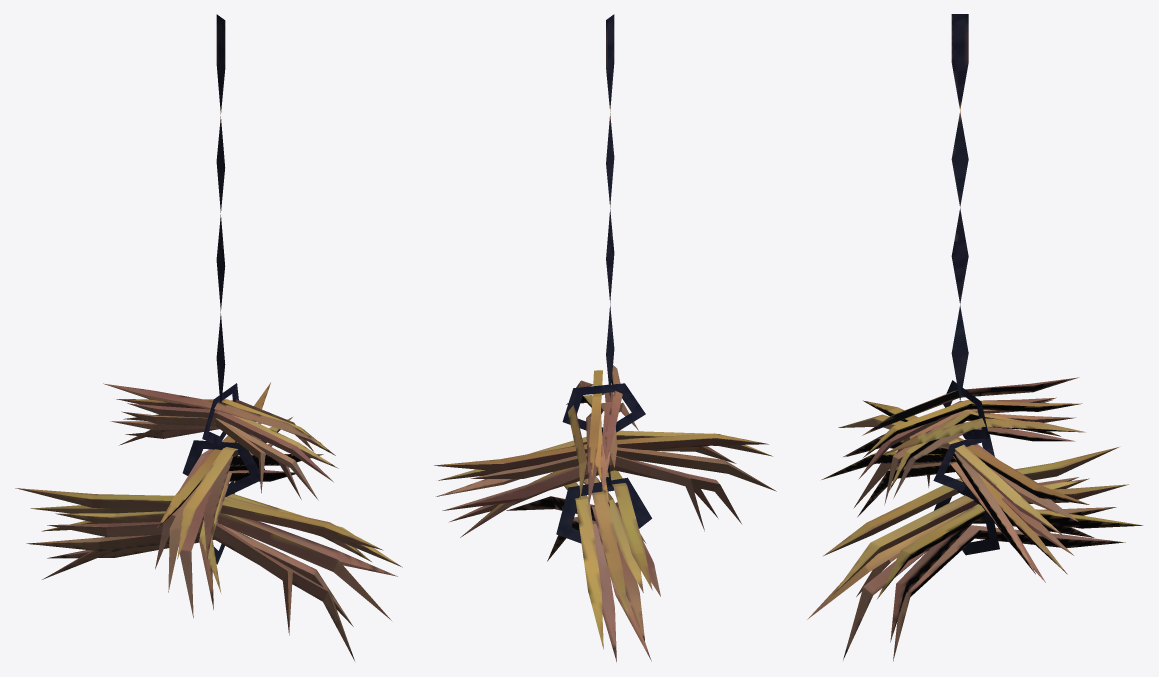
Rendered from 0swing.fbx_driedgrassswing.fbx.
The picture shows the model from 3 angles, left to right: view 1: azimuth 30°, elevation 25°; view 2: azimuth 150°, elevation 25°; view 3: azimuth 270°, elevation 25°; orthographic projection. The views are drawn at different scales.
Visible parts, largest first — view 1: Objectdriedgrass, Itemdriedgrass; view 2: Objectdriedgrass, Itemdriedgrass; view 3: Objectdriedgrass, Itemdriedgrass.
Boxes of the visible parts, box(x1,y1,x2,y2) form: Objectdriedgrass: box(103, 14, 338, 618); Itemdriedgrass: box(15, 481, 402, 660); Objectdriedgrass: box(434, 14, 776, 537); Itemdriedgrass: box(506, 470, 660, 662); Objectdriedgrass: box(821, 14, 1089, 582); Itemdriedgrass: box(807, 447, 1143, 661).
Size of the model in its own units: 221 by 490 by 246.
